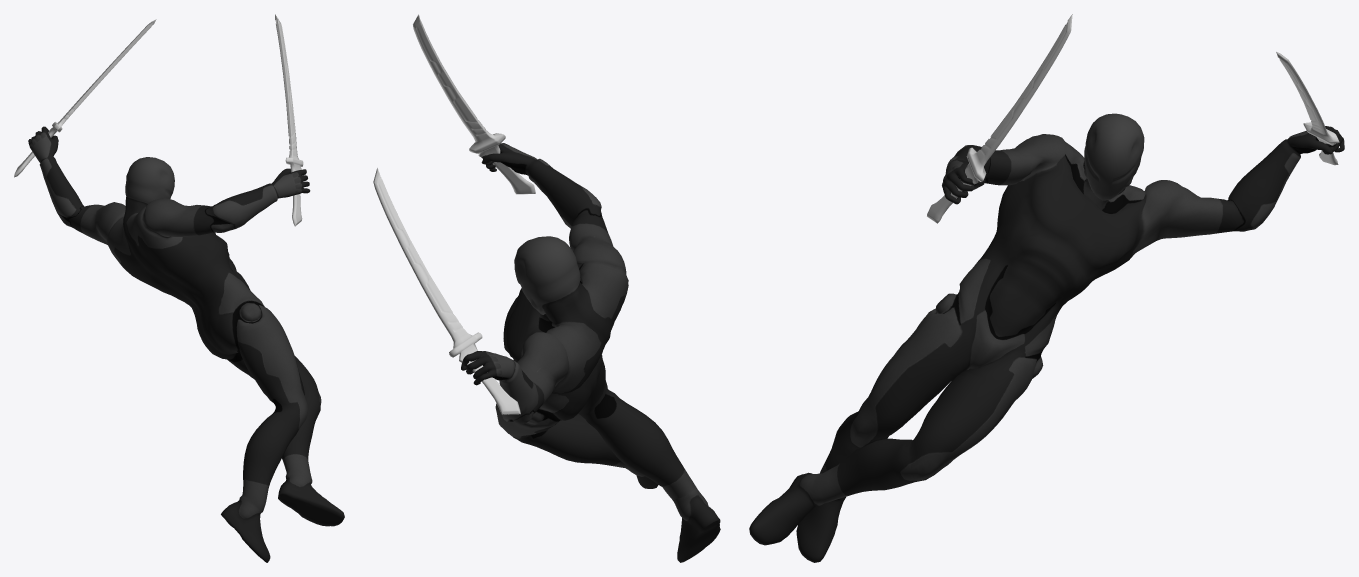
The picture shows the model from 3 angles, left to right: view 1: azimuth 30°, elevation 25°; view 2: azimuth 150°, elevation 25°; view 3: azimuth 270°, elevation 25°; orthographic projection. The views are drawn at different scales.
Parts seen in each view (by area): view 1: Cyborg_Ninja_Killer, Sword_l001, Sword_l; view 2: Cyborg_Ninja_Killer, Sword_l, Sword_l001; view 3: Cyborg_Ninja_Killer, Sword_l001, Sword_l.
Boxes of the visible parts, bbox=[...] form: Cyborg_Ninja_Killer: bbox=[28, 126, 344, 562]; Sword_l001: bbox=[275, 14, 303, 226]; Sword_l: bbox=[14, 19, 156, 177]; Cyborg_Ninja_Killer: bbox=[461, 143, 720, 562]; Sword_l: bbox=[373, 168, 520, 414]; Sword_l001: bbox=[413, 14, 535, 194]; Cyborg_Ninja_Killer: bbox=[749, 113, 1344, 562]; Sword_l001: bbox=[927, 14, 1072, 223]; Sword_l: bbox=[1276, 52, 1339, 165].
Bounding box in the file's own units: 83.47 × 208 × 182.
